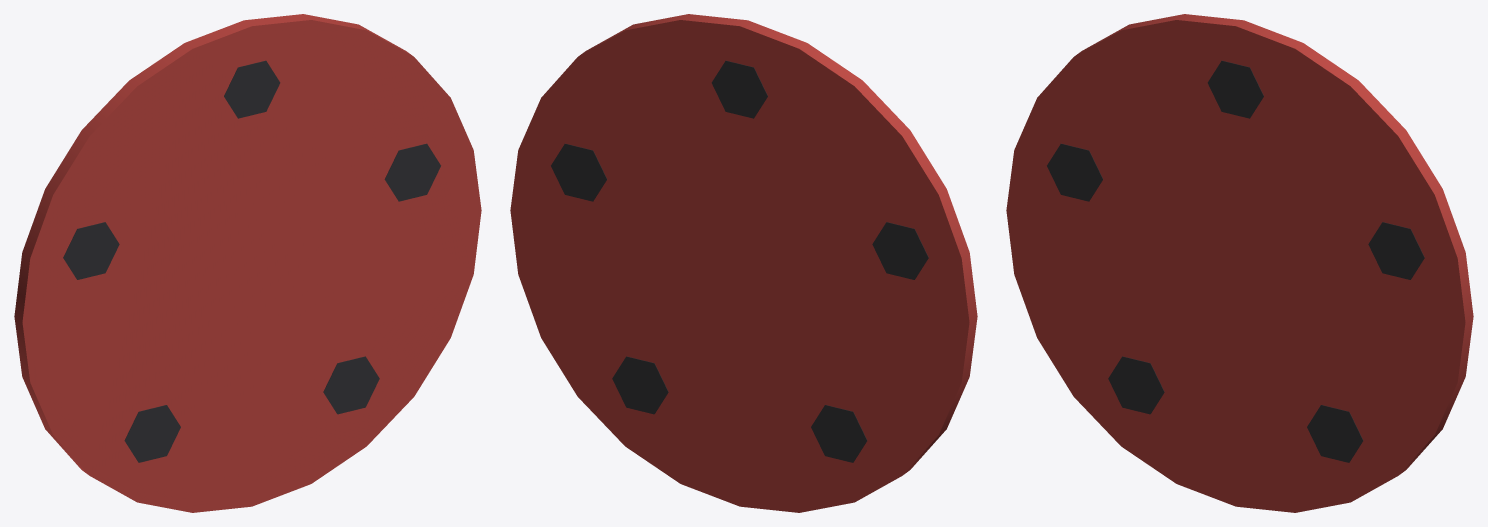
Rendered from rear_52_lod1.glb.
3 renders of one model, left to right at view 1: azimuth 30°, elevation 25°; view 2: azimuth 150°, elevation 25°; view 3: azimuth 330°, elevation 25°, orthographic.
Parts seen in each view (by area): view 1: rear_52_lod1; view 2: rear_52_lod1; view 3: rear_52_lod1.
Part boxes in pixels (left/top/right/bottom): rear_52_lod1: left=14, top=14, right=481, bottom=512; rear_52_lod1: left=510, top=14, right=977, bottom=512; rear_52_lod1: left=1006, top=14, right=1473, bottom=512.
Bounding box in the file's own units: 0.2629 × 0.2629 × 0.0085.
